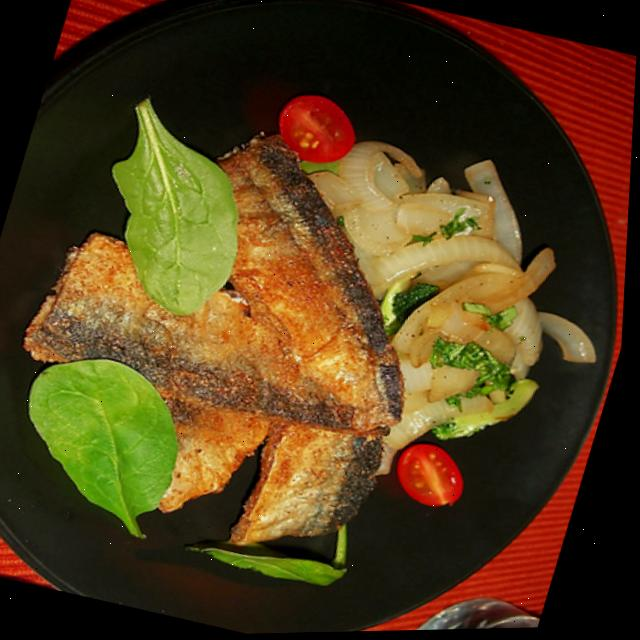炸货点心: (0, 56, 372, 482)
熟制海鲜: (0, 56, 372, 482)
